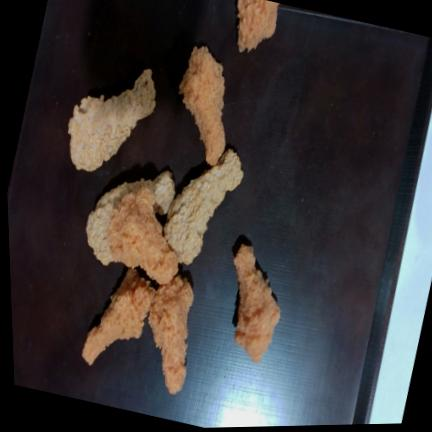chicken: (164, 143, 243, 263), (68, 68, 155, 171), (82, 269, 155, 365), (107, 187, 177, 284), (179, 46, 225, 166), (233, 244, 280, 361), (148, 275, 193, 394), (237, 0, 278, 52)
